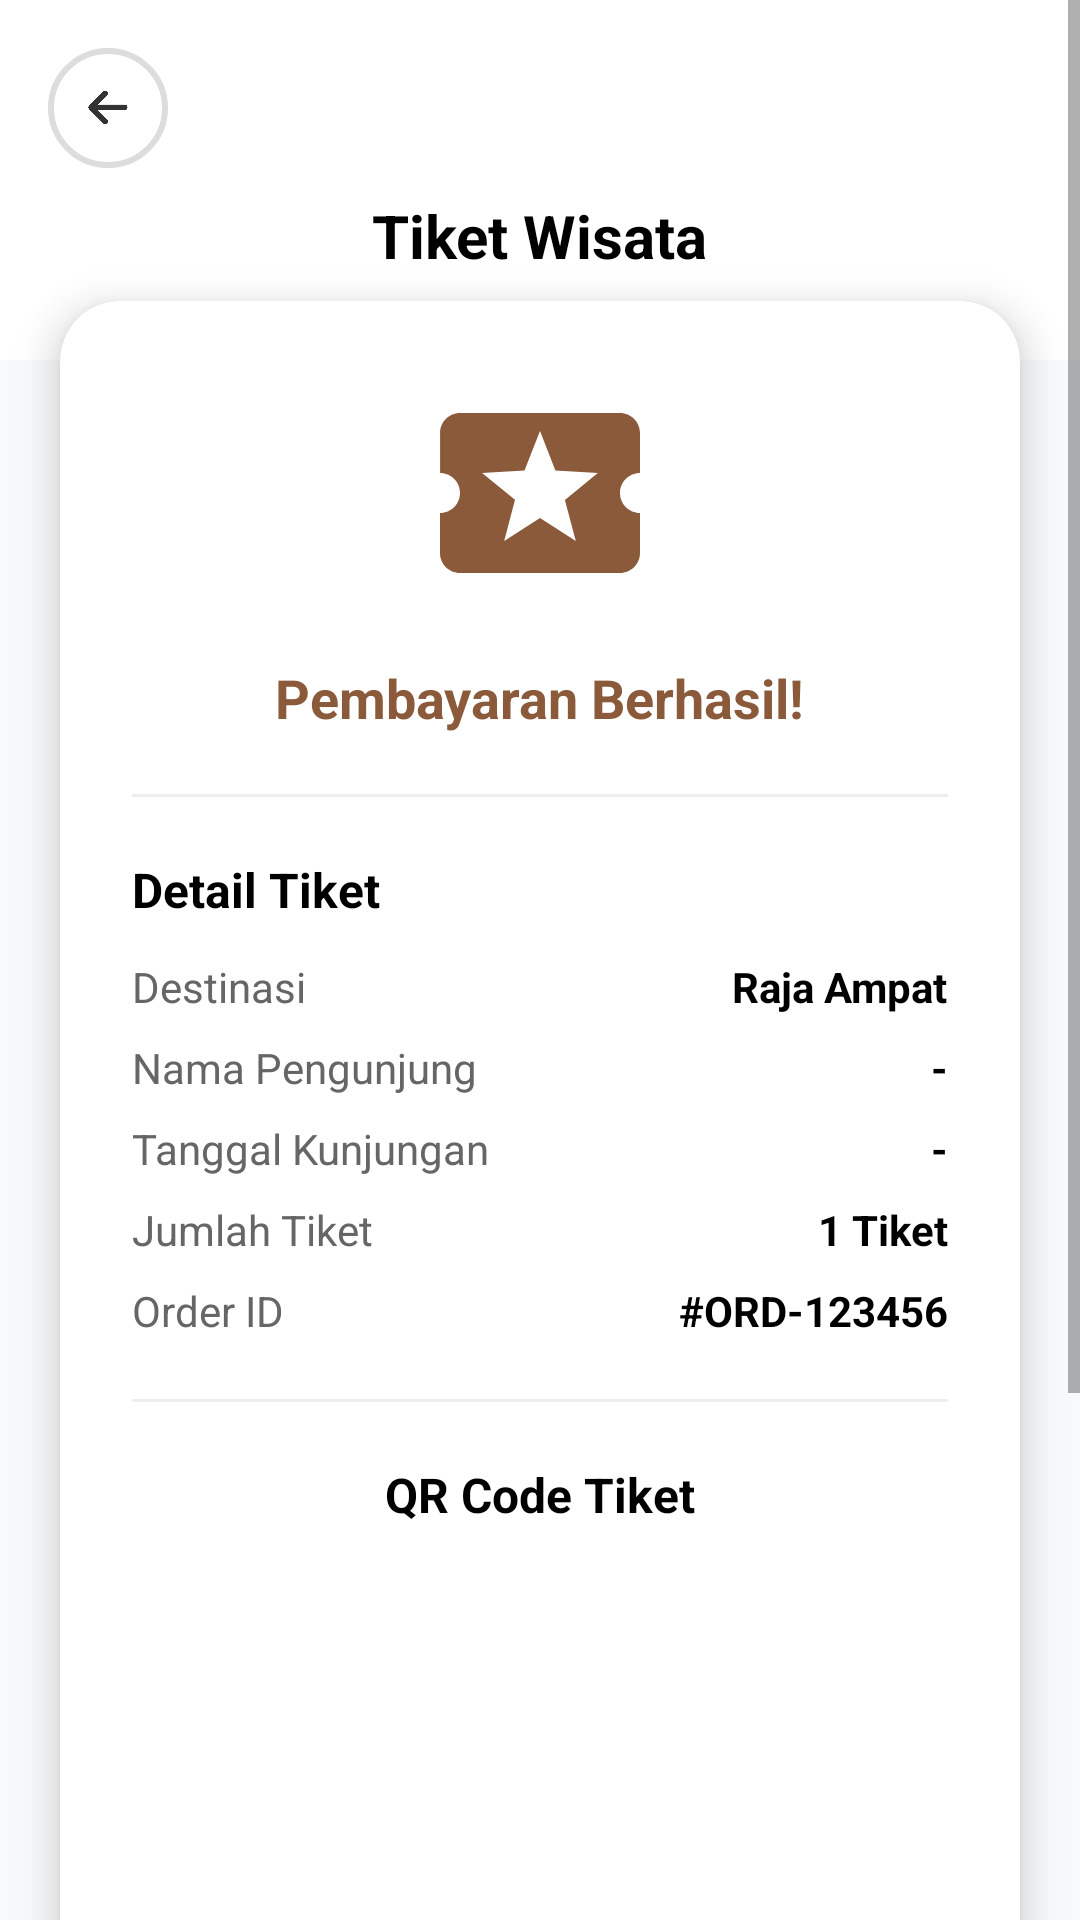

Screen size 1080×1920. Icon name, then its center in pixels as (x,y):
back: (108,108)
local activity: (540,493)
